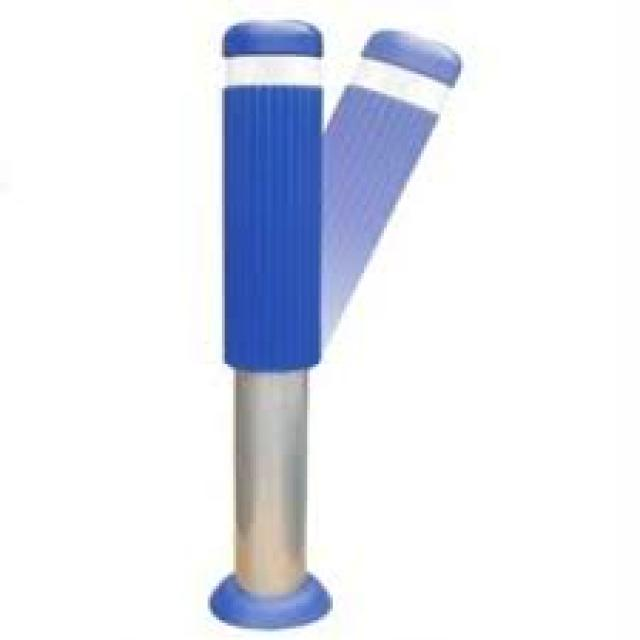bollard: (203, 2, 339, 634)
